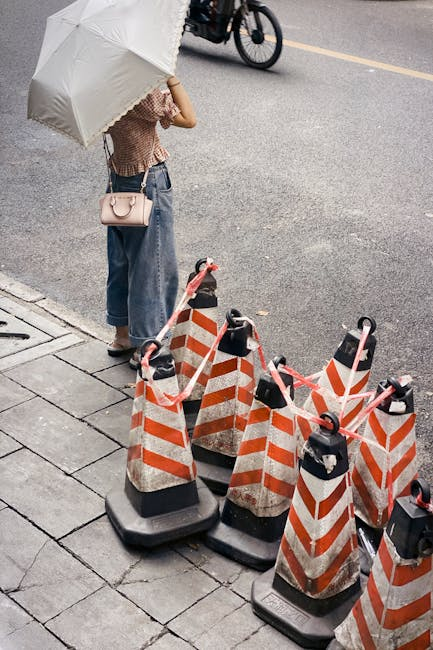traffic_cone: (250, 315, 378, 648), (104, 258, 220, 549), (250, 411, 363, 649), (203, 355, 300, 571), (326, 478, 432, 649), (190, 308, 267, 495), (350, 374, 420, 575), (295, 315, 378, 451), (351, 374, 420, 531), (168, 257, 220, 403)
